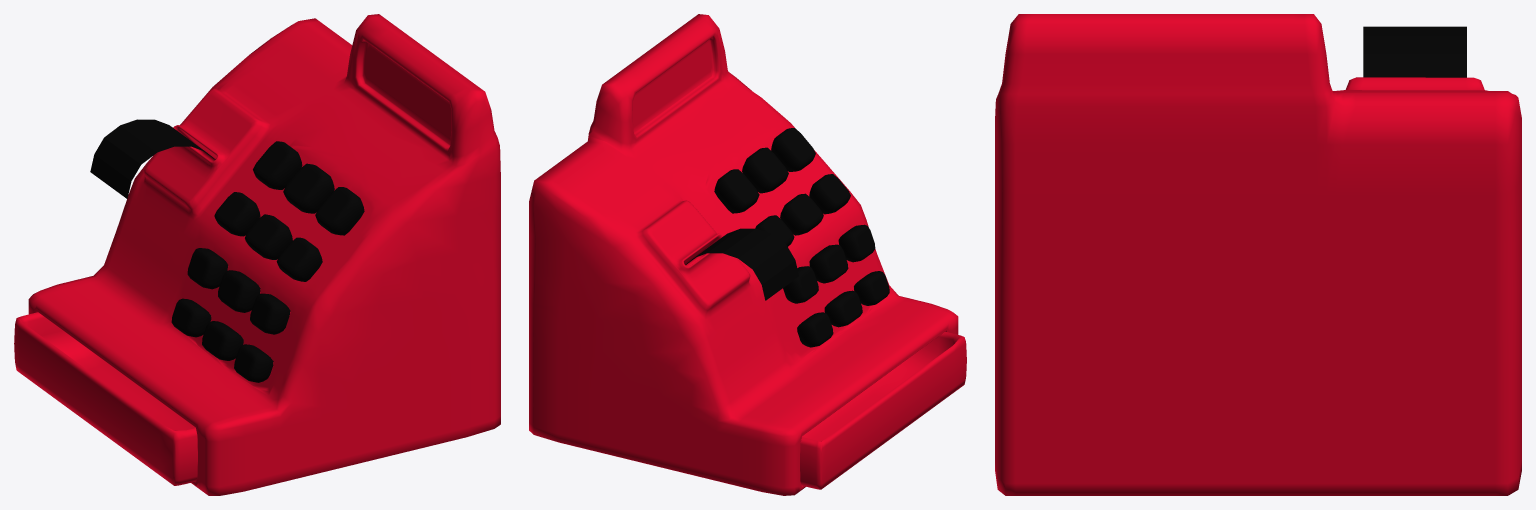
File: cashregister.fbx
3 renders of one model, left to right at view 1: azimuth 30°, elevation 25°; view 2: azimuth 150°, elevation 25°; view 3: azimuth 270°, elevation 25°, orthographic. The views are drawn at different scales.
Visible parts, largest first — view 1: Plane001; view 2: Plane001; view 3: Plane001.
Boxes of the visible parts, bbox=[...] form: Plane001: bbox=[14, 14, 500, 495]; Plane001: bbox=[529, 14, 966, 495]; Plane001: bbox=[995, 14, 1521, 495].
Bounding box in the file's own units: 7.26 × 7.42 × 7.54.
